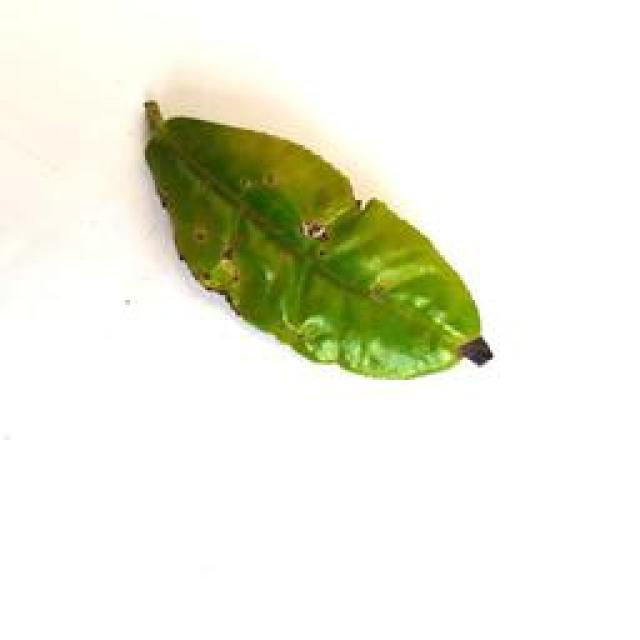Helopeltis: (140, 102, 492, 380)
